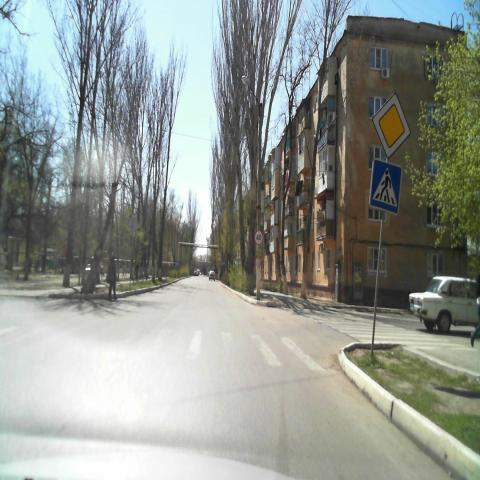3_24: (253, 230, 262, 245)
